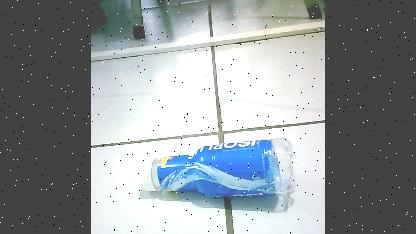Plastic Bottle: (133, 128, 297, 206)
